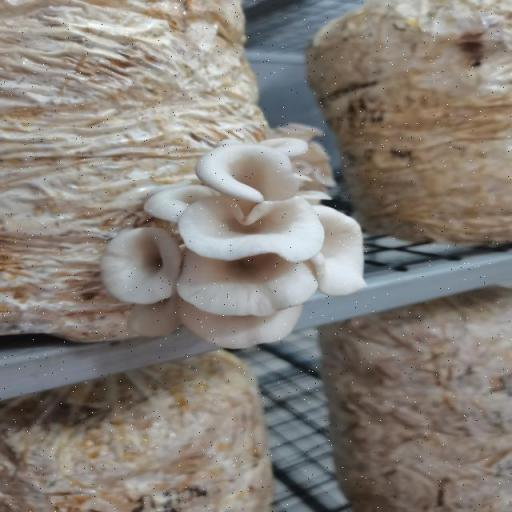White Oyster Mushroom: (98, 132, 374, 359)
